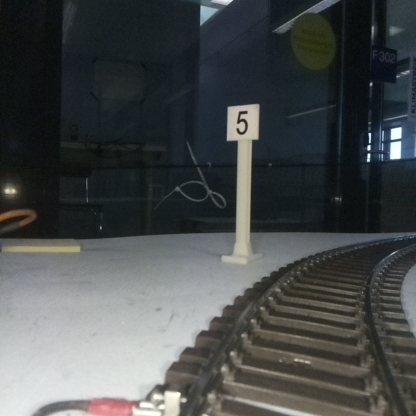white-info-5: (227, 103, 258, 262)
